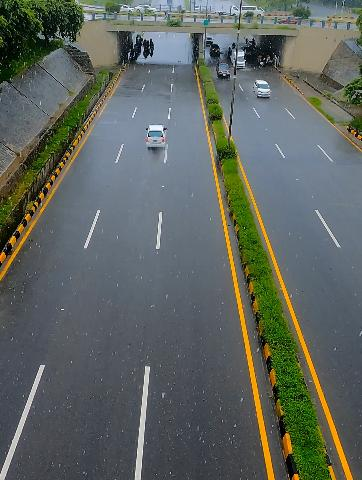car: (144, 122, 174, 153), (252, 77, 277, 100), (134, 4, 160, 14), (116, 3, 134, 12)
pickup-truck: (215, 60, 235, 80)
truck: (211, 0, 241, 17), (230, 46, 247, 69)
van: (241, 1, 267, 17)
